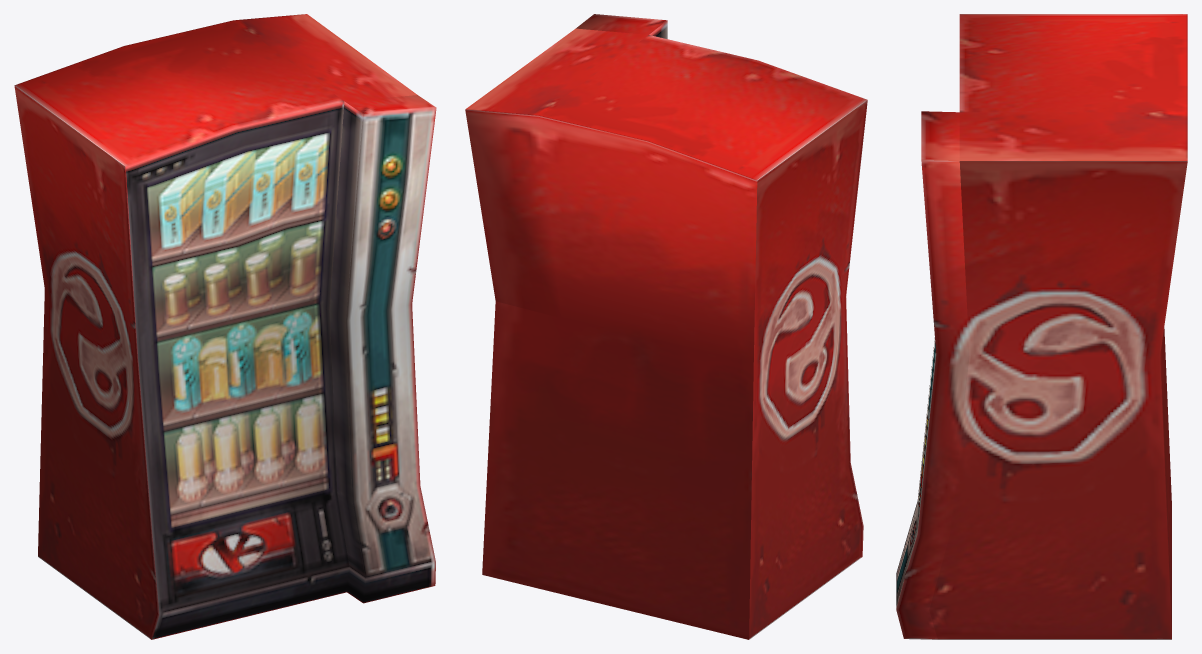
3 renders of one model, left to right at view 1: azimuth 30°, elevation 25°; view 2: azimuth 150°, elevation 25°; view 3: azimuth 270°, elevation 25°, orthographic. The views are drawn at different scales.
Parts seen in each view (by area): view 1: gk_wj004_01; view 2: gk_wj004_01; view 3: gk_wj004_01.
Part boxes in pixels (bbox=[...]): gk_wj004_01: bbox=[14, 14, 436, 639]; gk_wj004_01: bbox=[465, 14, 867, 639]; gk_wj004_01: bbox=[896, 14, 1187, 639].
Size of the model in its own units: 136 by 214 by 114.
